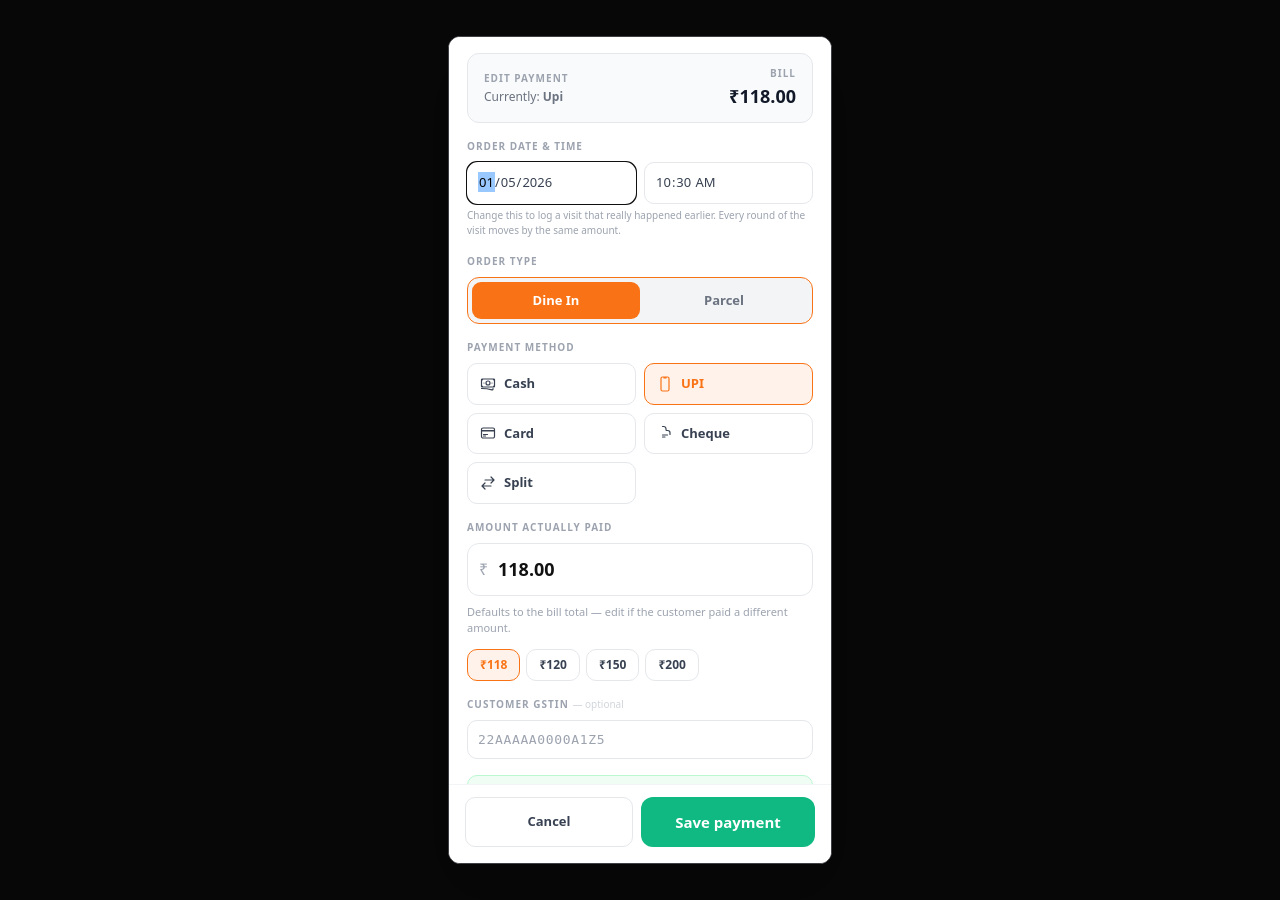
a short new GSTIN blocks saving; clearing a saved one explains the server keeps it
Type "abc" into the field named "Customer GSTIN" at x=640, y=739, box [467,720,813,759]
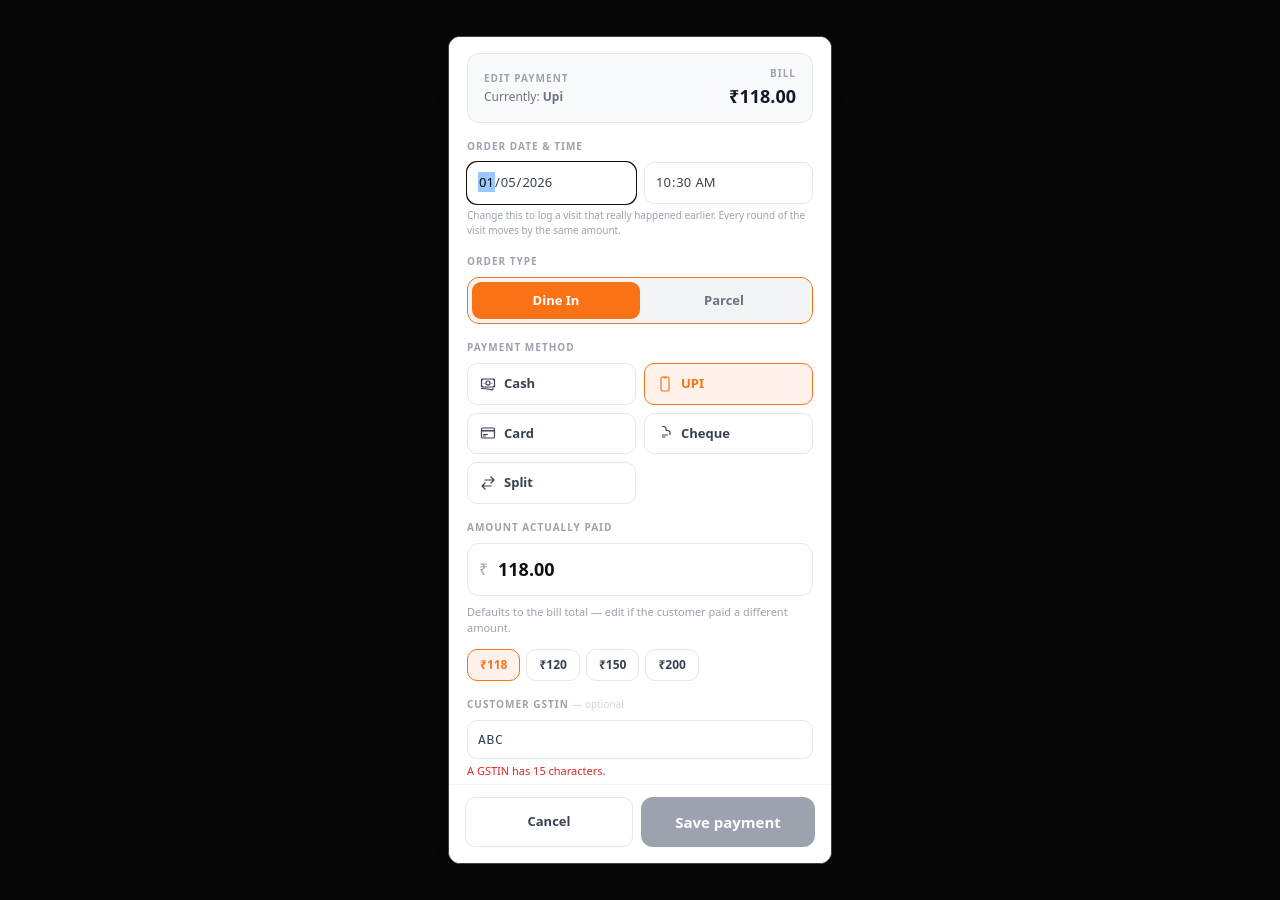
expect the message shows "15": met, box [467,763,606,778]
expect the button "Save payment" is disabled: met, box [641,796,815,847]
